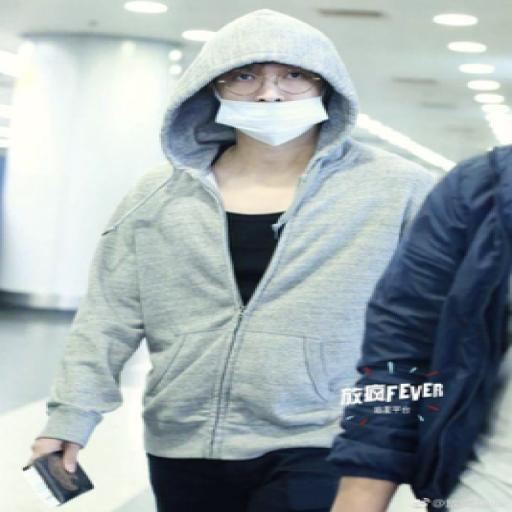mask_weared_incorrect: (207, 62, 328, 144)
